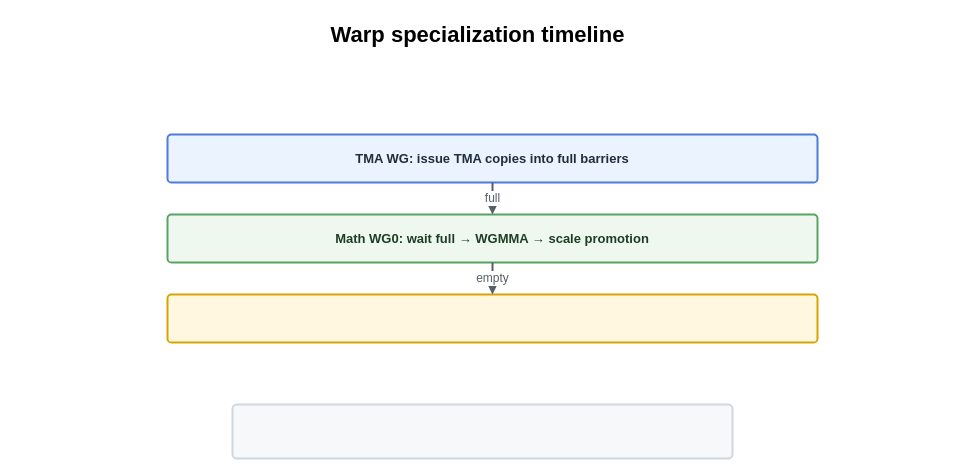
Some shapes in this 954 by 476 pixel diagram are drawn without their labels. Each missing label, with the centre of its shape:
"Math WG1: staggered consumer work" belongs at point 492,318.
"setmaxnreg shifts RF budget TMA 40 regs/thread, math WGs 232 regs/thread" belongs at point 482,431.
